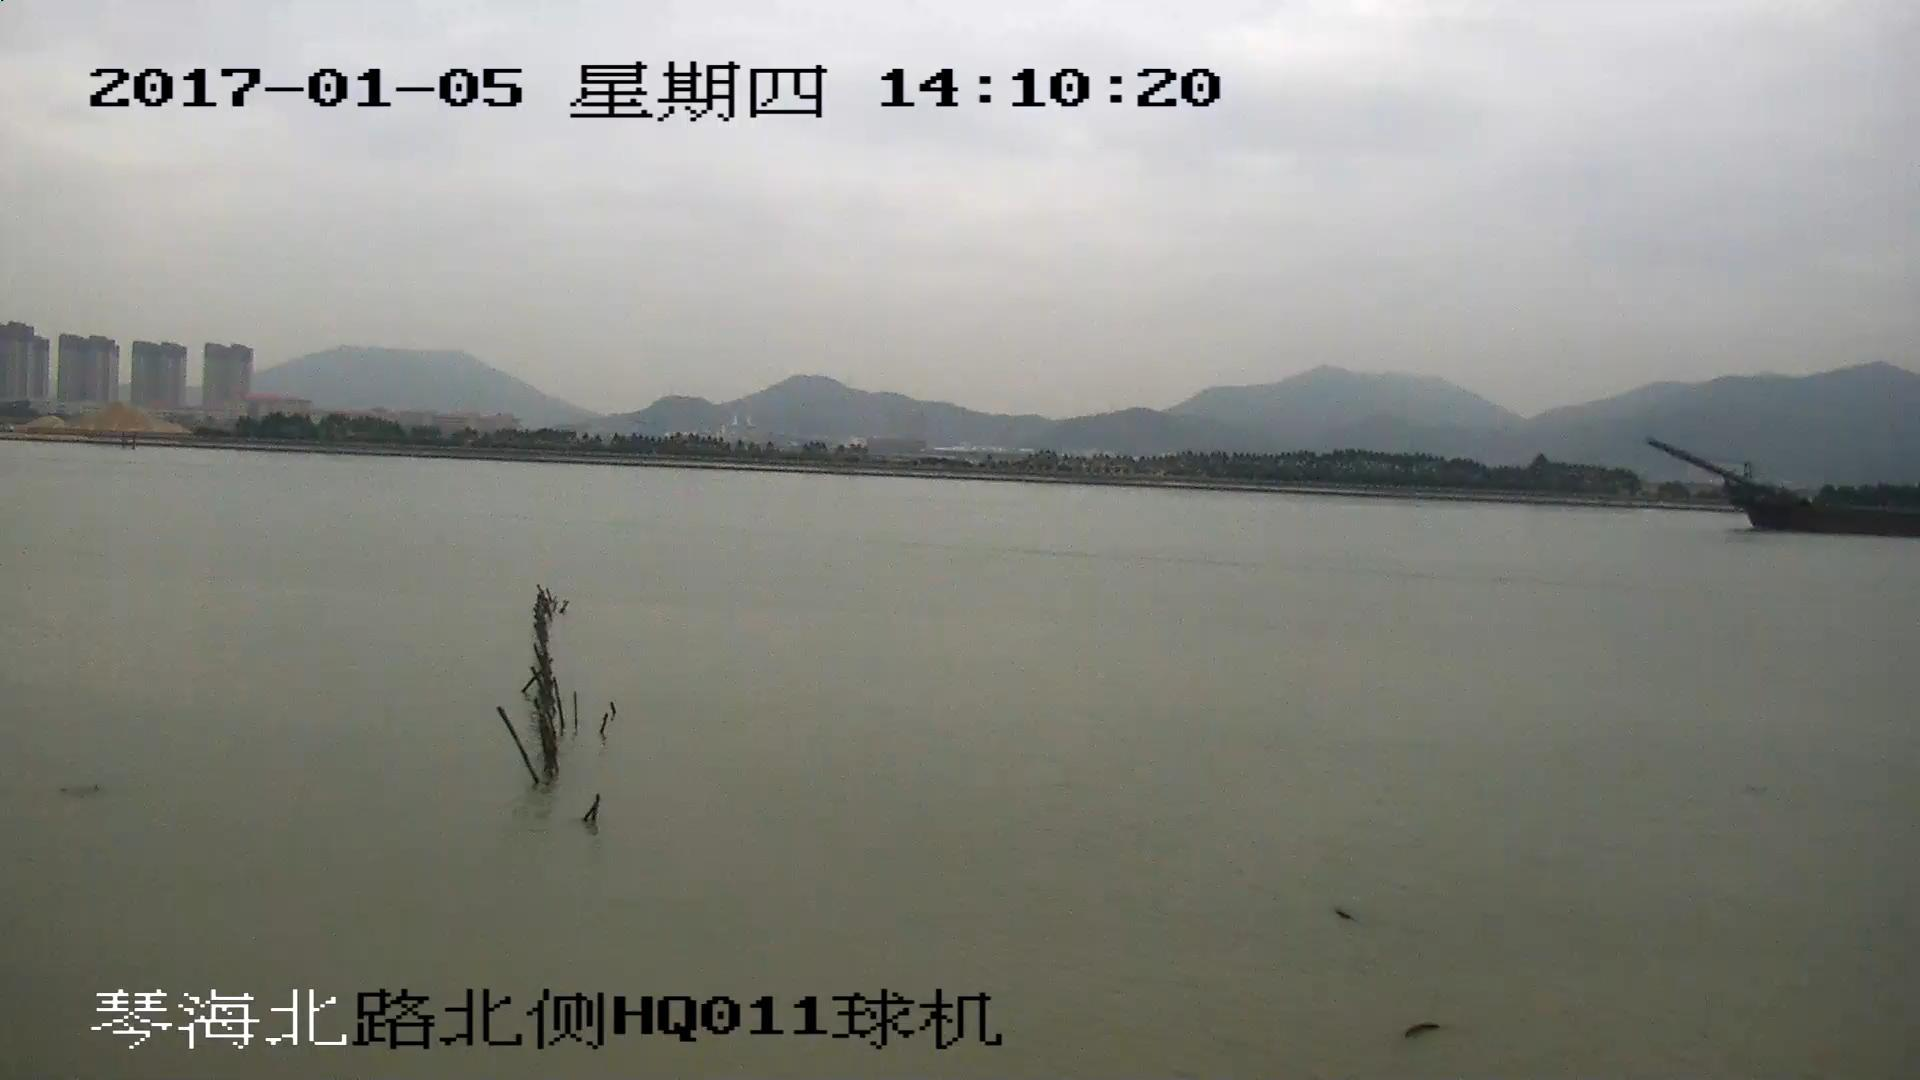Ship: (1648, 442, 1920, 535)
